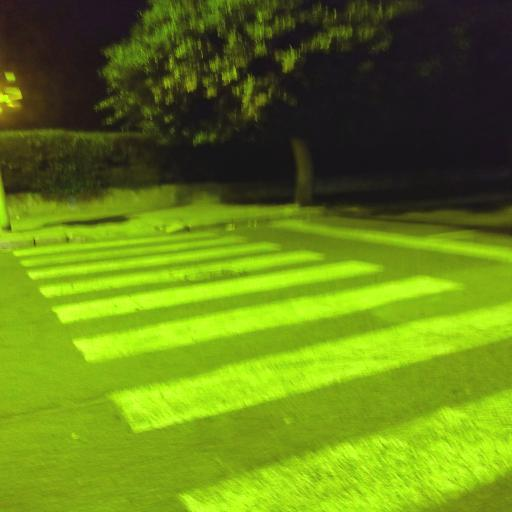crosswalk: (48, 256, 474, 368)
